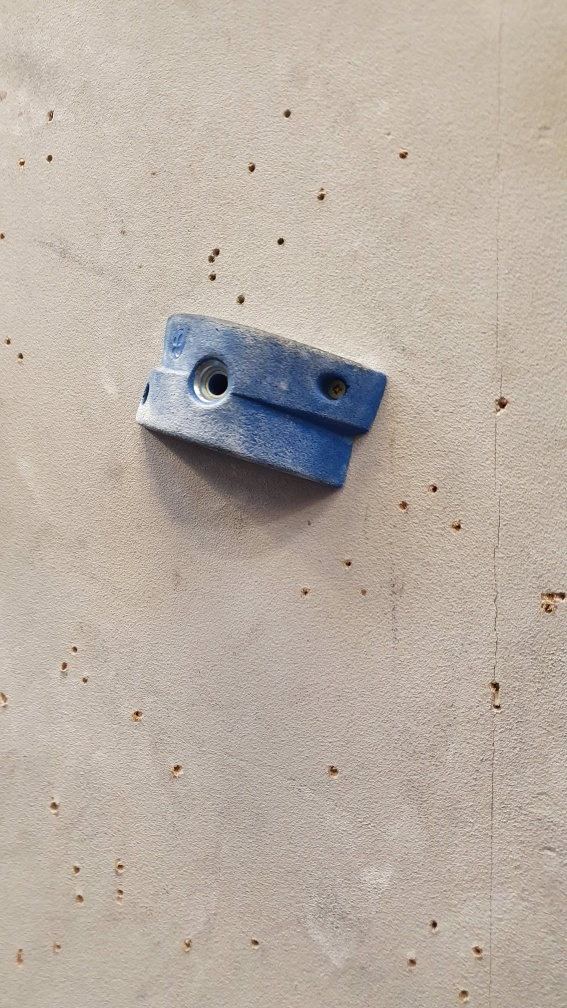Pinch: (127, 307, 396, 499)
